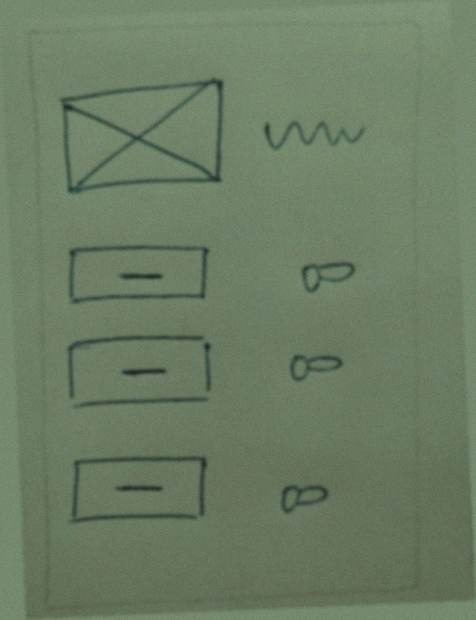button: (58, 324, 218, 420), (62, 443, 214, 535), (56, 234, 216, 319)
image: (53, 75, 231, 203)
switch: (289, 246, 364, 309), (274, 469, 339, 528), (283, 339, 347, 396)
text: (254, 103, 369, 167)
